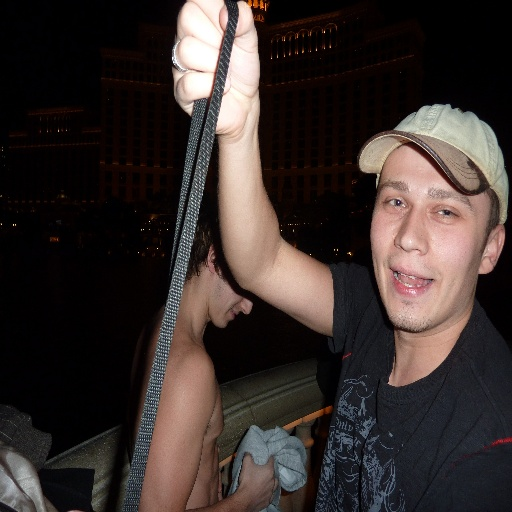hand: (166, 8, 266, 145), (237, 453, 279, 511)
